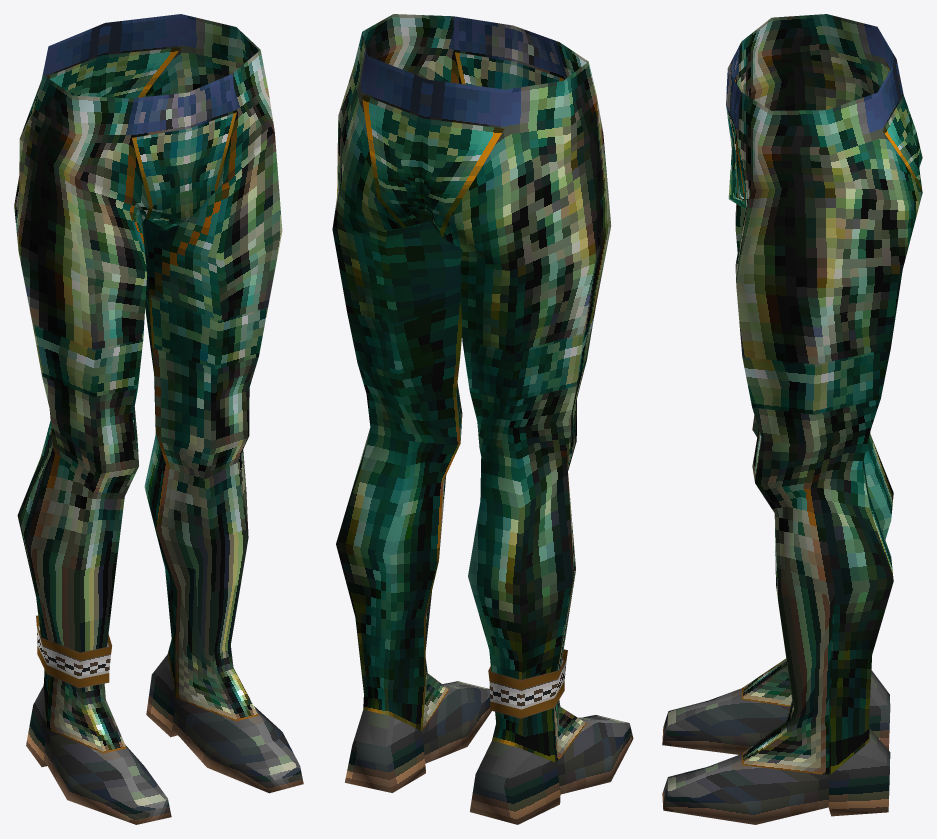
File: m_legging253.obj
3 renders of one model, left to right at view 1: azimuth 30°, elevation 25°; view 2: azimuth 150°, elevation 25°; view 3: azimuth 270°, elevation 25°, orthographic. The views are drawn at different scales.
Visible parts, largest first — view 1: mesh00, mesh01; view 2: mesh00, mesh01; view 3: mesh00.
Part boxes in pixels (box(x1,y1,x2,y2)): mesh00: box(14, 14, 303, 824); mesh01: box(37, 625, 110, 678); mesh00: box(332, 14, 633, 824); mesh01: box(489, 659, 566, 709); mesh00: box(662, 14, 922, 824).
Bounding box in the file's own units: 39.97 × 108 × 35.63.
Materials: 2 (2 with a texture image).
